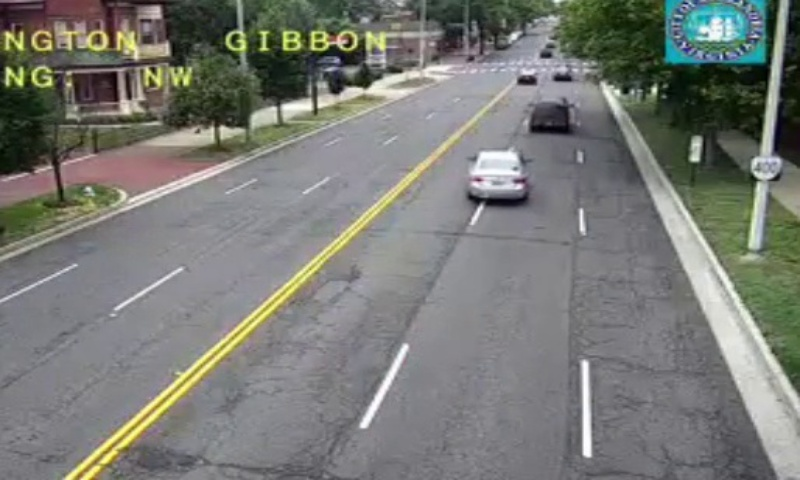car: (466, 150, 527, 200), (530, 98, 572, 129)
